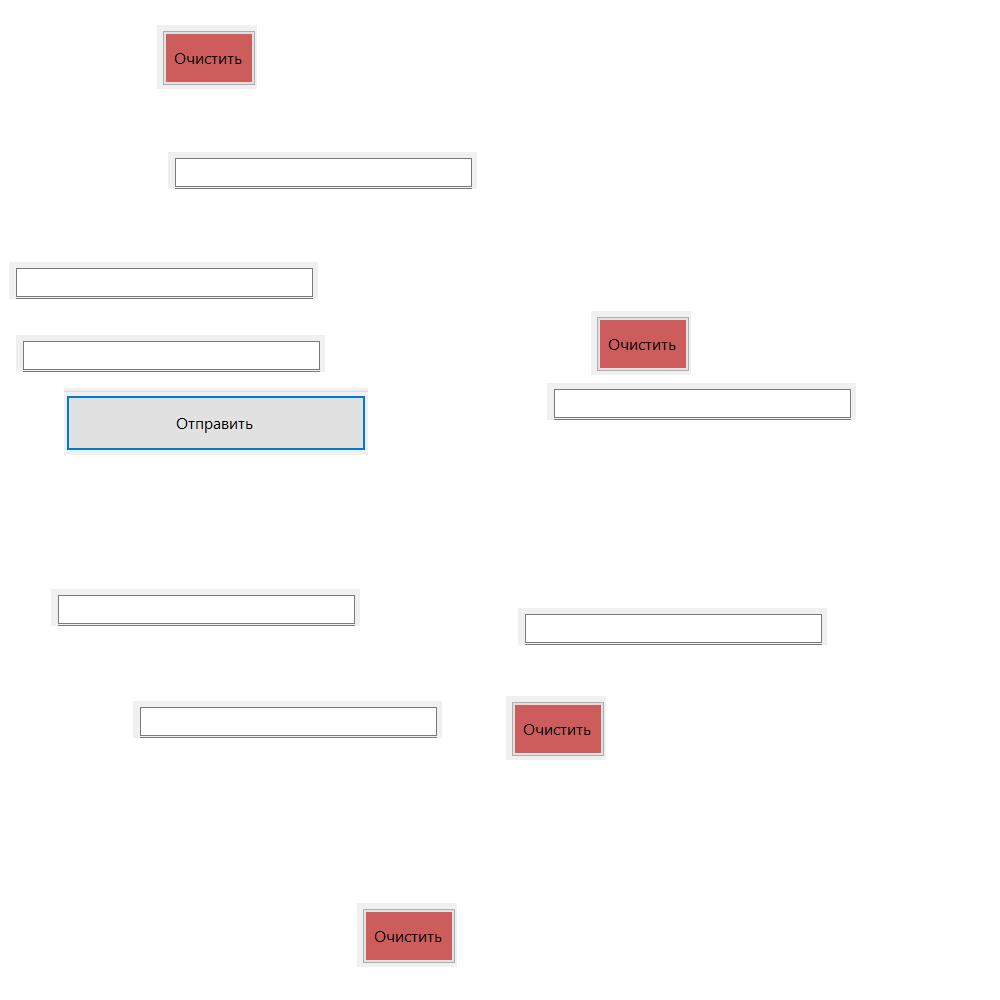Button: (64, 388, 368, 455), (157, 25, 257, 89), (506, 696, 606, 760), (591, 311, 691, 375), (357, 903, 457, 967)
EditText-: (547, 383, 856, 420), (16, 335, 325, 372), (168, 152, 477, 189), (133, 701, 442, 738), (9, 262, 318, 299), (518, 608, 827, 645), (51, 589, 360, 626)
